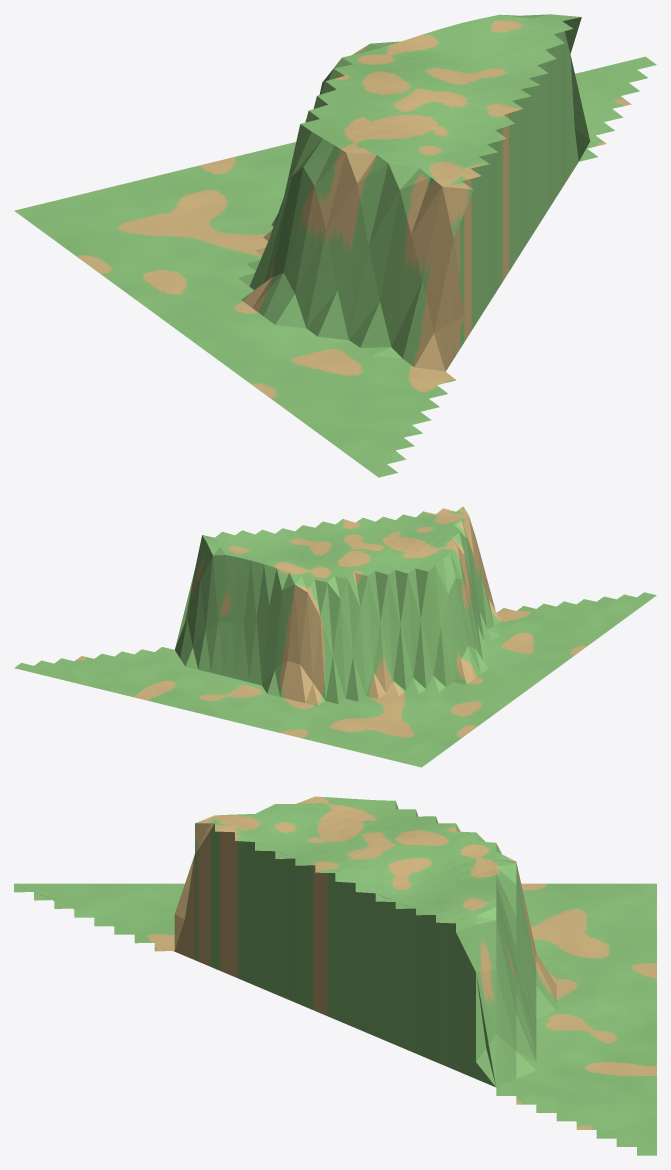
Rendered from Grass_Hills_12_SW.obj.
3 renders of one model, top to bottom at view 1: azimuth 30°, elevation 25°; view 2: azimuth 150°, elevation 25°; view 3: azimuth 270°, elevation 25°, orthographic. The views are drawn at different scales.
Bounding box in the file's own units: 10 × 2.54 × 10.
Materials: 1 (1 with a texture image).
